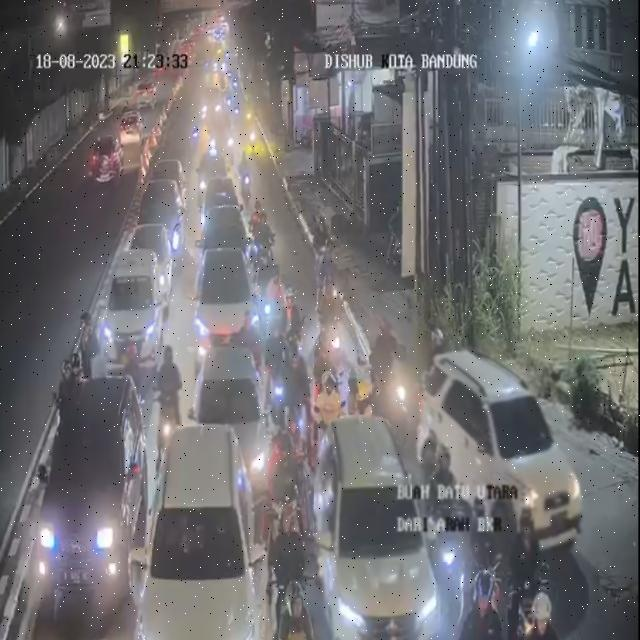cars: (412, 341, 596, 562), (34, 377, 156, 621), (136, 419, 265, 637), (314, 415, 434, 640), (189, 328, 268, 514), (101, 242, 168, 375), (195, 240, 261, 365), (203, 196, 252, 266), (138, 216, 175, 304), (145, 177, 185, 243), (202, 165, 242, 223), (150, 157, 188, 208)
motorcycle: (267, 490, 314, 638), (509, 486, 551, 638), (308, 271, 357, 393), (372, 315, 414, 446), (465, 486, 498, 633), (429, 444, 462, 552), (462, 563, 505, 640), (155, 339, 182, 445), (519, 581, 567, 640), (269, 424, 300, 512), (283, 350, 310, 448), (266, 320, 289, 434), (255, 248, 283, 336), (280, 577, 318, 639), (315, 367, 344, 443), (316, 245, 344, 311), (55, 356, 80, 416), (72, 313, 94, 380), (123, 336, 145, 396), (195, 150, 215, 208), (254, 207, 272, 264), (247, 115, 262, 160)
